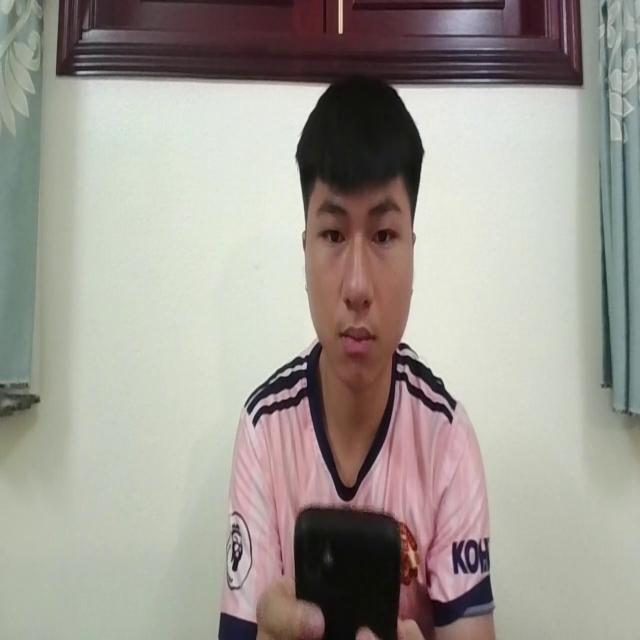phone: (292, 501, 404, 640)
student: (224, 71, 495, 640)
